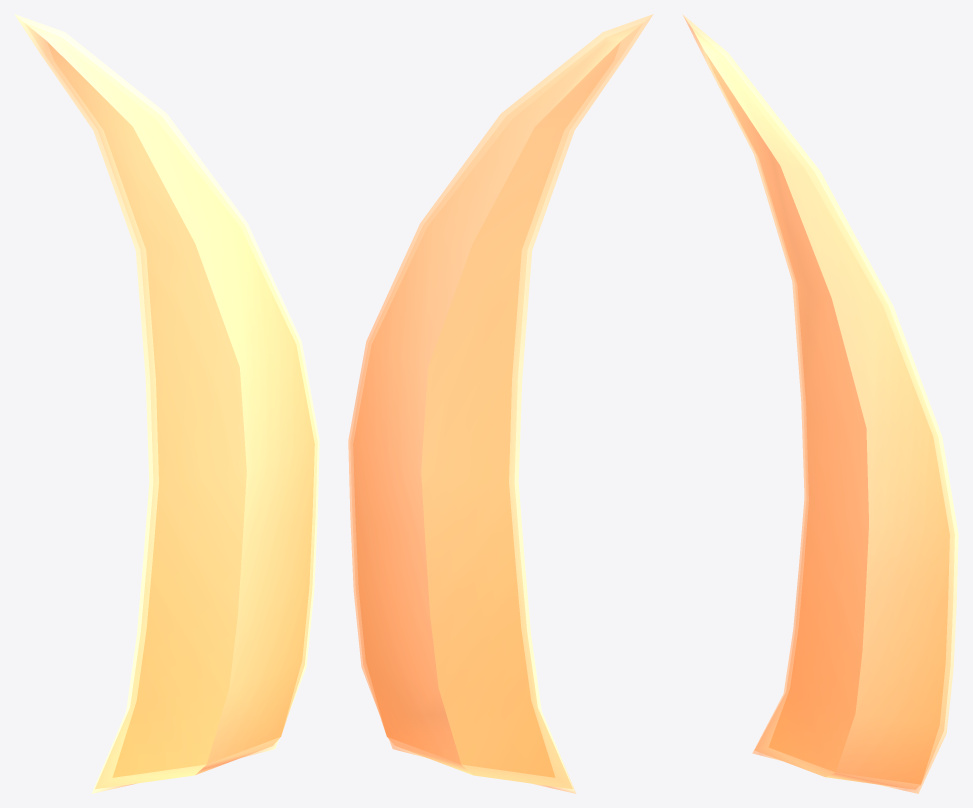
File: wood_blade (11).glb
3 views of the same model, side by side, from view 1: azimuth 30°, elevation 25°; view 2: azimuth 150°, elevation 25°; view 3: azimuth 330°, elevation 25° (orthographic). The views are drawn at different scales.
Visible parts, largest first — view 1: wood_blade_steel.075; view 2: wood_blade_steel.075; view 3: wood_blade_steel.075.
Part boxes in pixels (x1,y1,x2,y2): wood_blade_steel.075: (14, 14, 319, 793); wood_blade_steel.075: (348, 14, 653, 793); wood_blade_steel.075: (682, 14, 958, 793).
Bounding box in the file's own units: 4.91 × 12.29 × 0.7262.
Materials: 1 (1 with a texture image).
